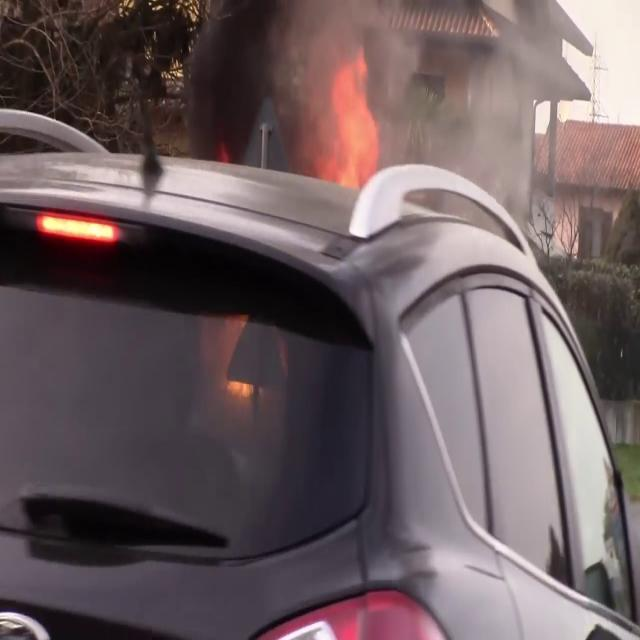Fire: (318, 44, 382, 190)
Smoke: (163, 0, 555, 158)
